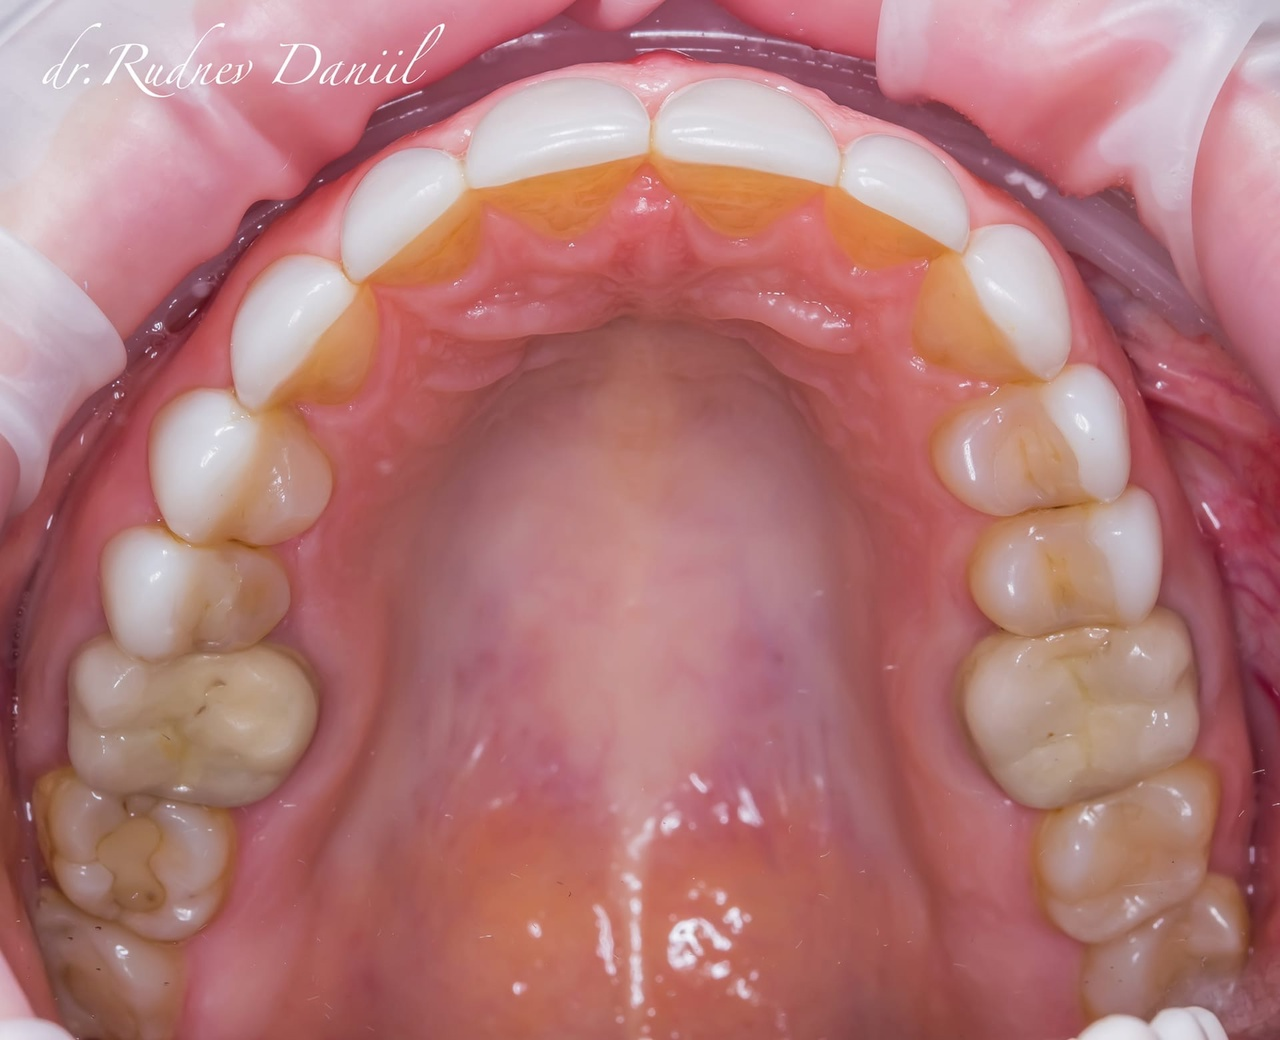UL1BC_healthy: (933, 375, 1124, 516)
UL1M_healthy: (974, 637, 1206, 775)
UL2BC_healthy: (980, 507, 1167, 647)
UL2M_healthy: (1035, 790, 1215, 918)
ULCI_healthy: (651, 79, 840, 248)
ULC_healthy: (921, 232, 1073, 378)
ULLI_healthy: (831, 138, 969, 275)
UR1BC_healthy: (139, 401, 336, 545)
UR1M_healthy: (72, 651, 317, 799)
UR2BC_healthy: (84, 536, 299, 655)
UR2M_decay: (29, 772, 246, 932)
URCI_healthy: (472, 80, 652, 222)
URC_healthy: (225, 271, 387, 399)
URLI_healthy: (347, 152, 478, 292)
